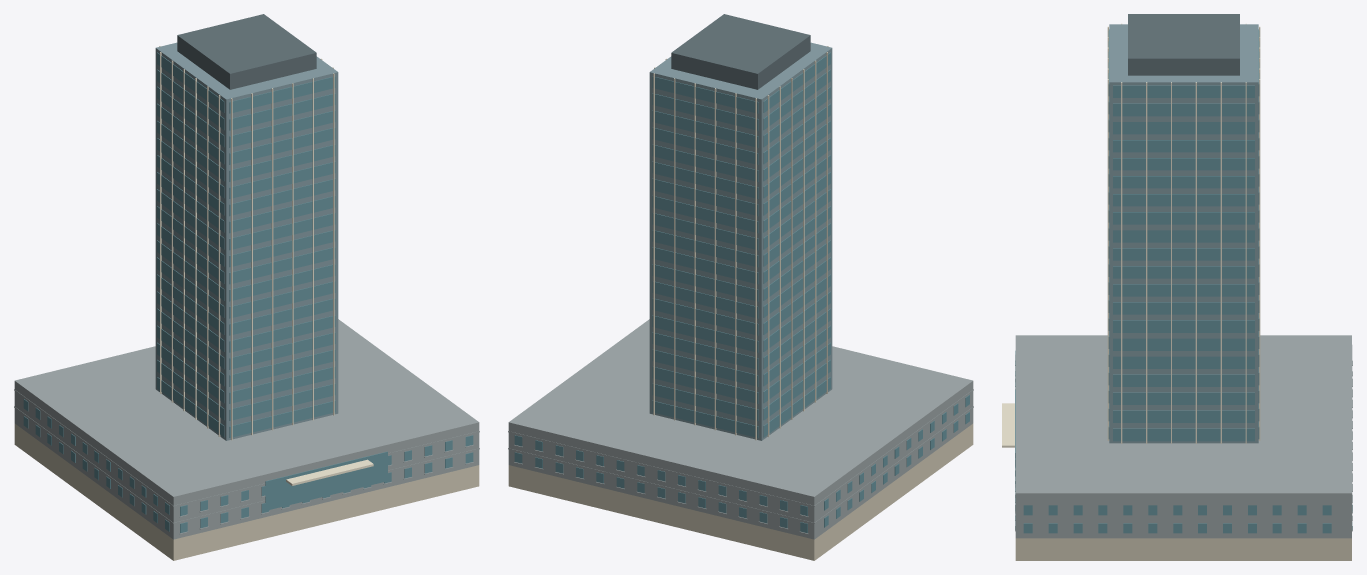
File: civic-tower-0.glb
3 renders of one model, left to right at view 1: azimuth 30°, elevation 25°; view 2: azimuth 150°, elevation 25°; view 3: azimuth 270°, elevation 25°, orthographic. The views are drawn at different scales.
Bounding box in the file's own units: 60.16 × 79 × 56.34.
